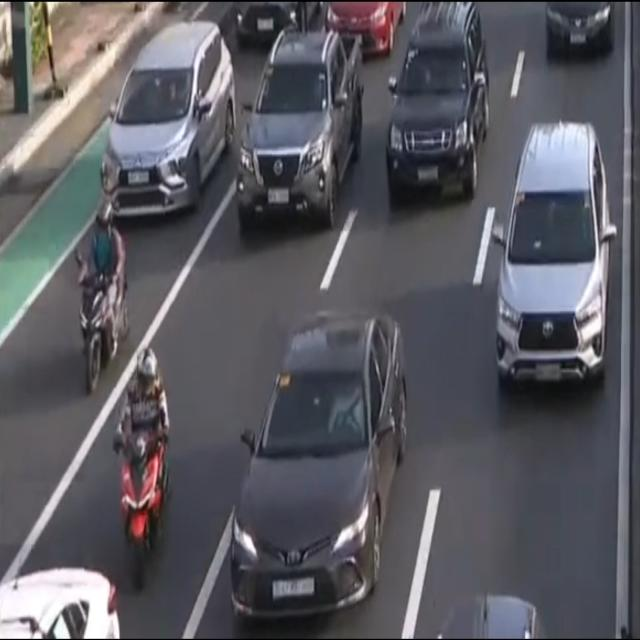Motorcycle: (111, 346, 170, 589), (74, 197, 128, 398)
SUV: (492, 120, 617, 402), (97, 16, 240, 226), (235, 24, 372, 234), (379, 2, 487, 205)
Sedan: (222, 302, 412, 629)
